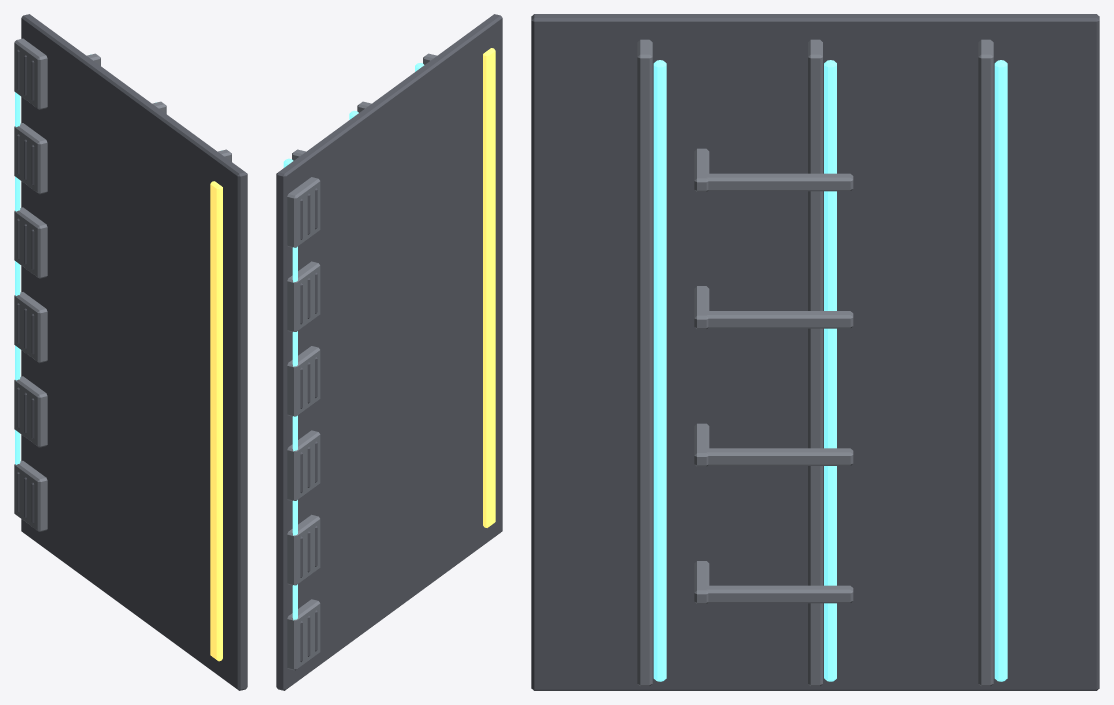
Rendered from wall_dress_strip.glb.
The picture shows the model from 3 angles, left to right: view 1: azimuth 30°, elevation 25°; view 2: azimuth 150°, elevation 25°; view 3: azimuth 270°, elevation 25°; orthographic projection. The views are drawn at different scales.
Parts seen in each view (by area): view 1: WallDressStrip; view 2: WallDressStrip; view 3: WallDressStrip.
Boxes of the visible parts, x1=… form: WallDressStrip: x1=14, y1=14, x2=247, y2=690; WallDressStrip: x1=276, y1=14, x2=502, y2=690; WallDressStrip: x1=531, y1=14, x2=1099, y2=690.
Bounding box in the file's own units: 0.62 × 3.92 × 3.
